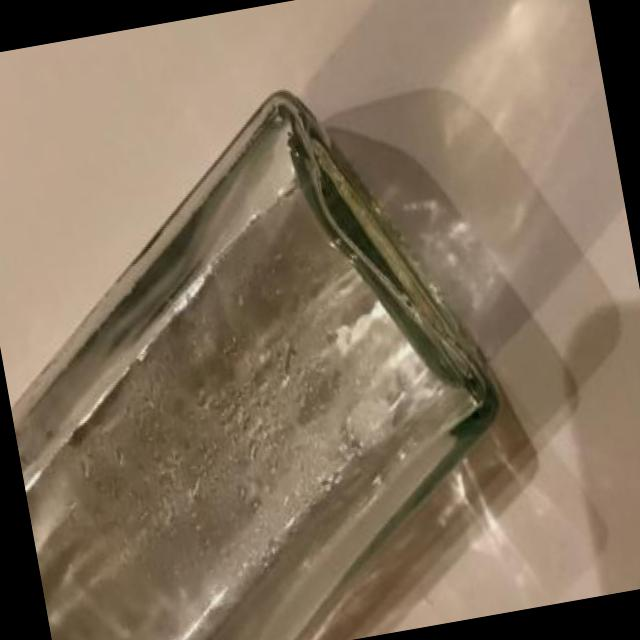chai_thuy_tinh: (11, 93, 499, 640)
